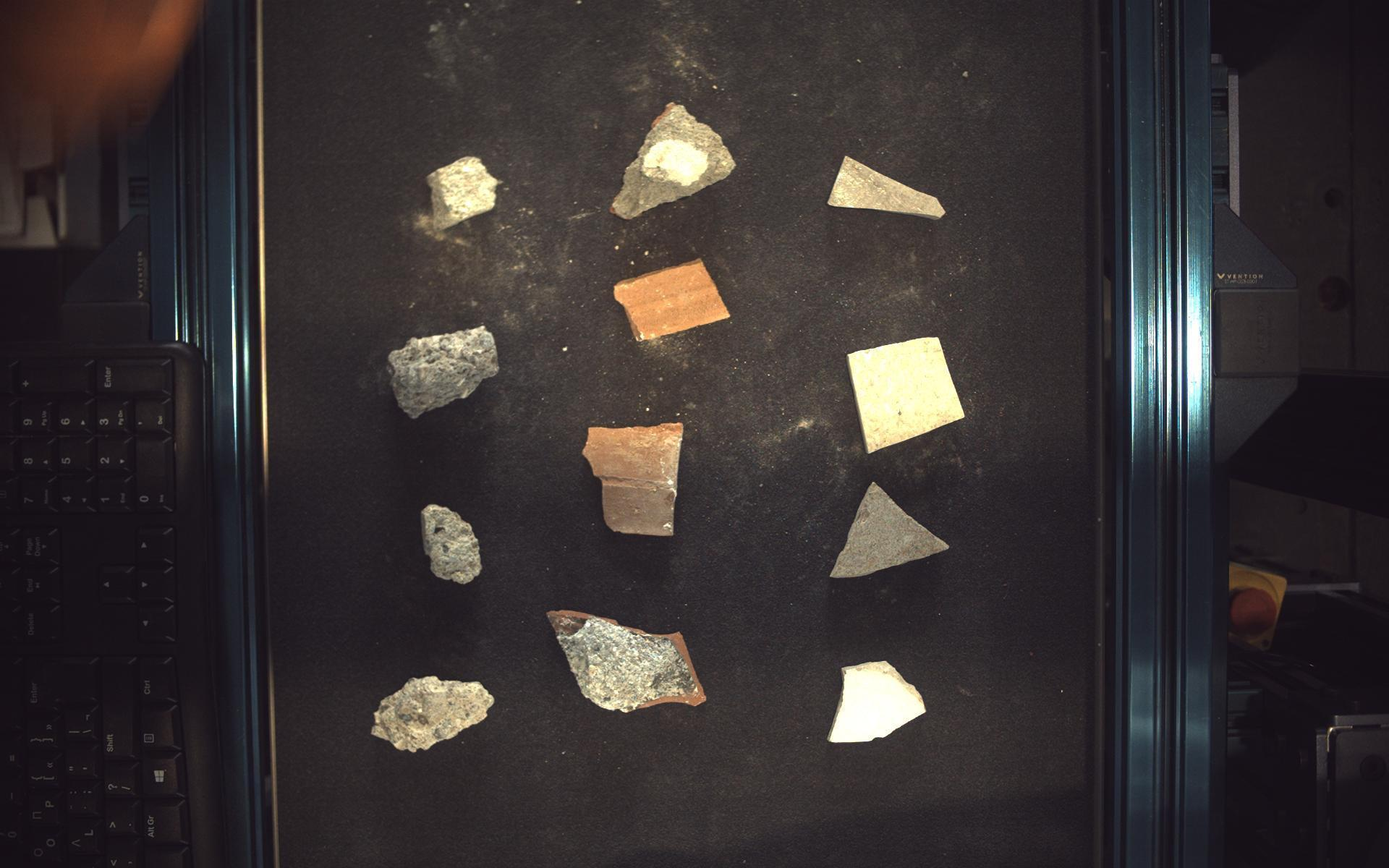brick: (548, 613, 706, 713), (583, 424, 684, 537), (614, 258, 730, 340)
concrete: (611, 101, 736, 218), (388, 326, 497, 419), (371, 677, 494, 753), (427, 156, 499, 229), (421, 505, 481, 584)
tile: (849, 337, 966, 453), (832, 483, 951, 579), (830, 662, 927, 744), (829, 156, 947, 218)
